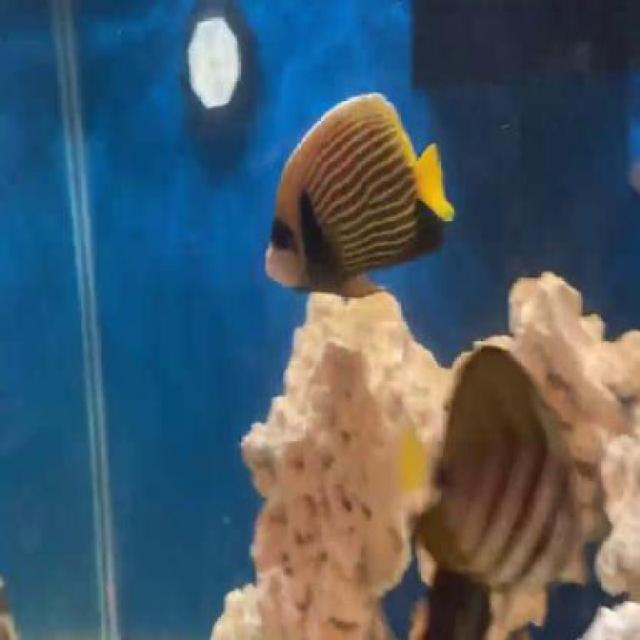AngelFish: (266, 90, 456, 292)
